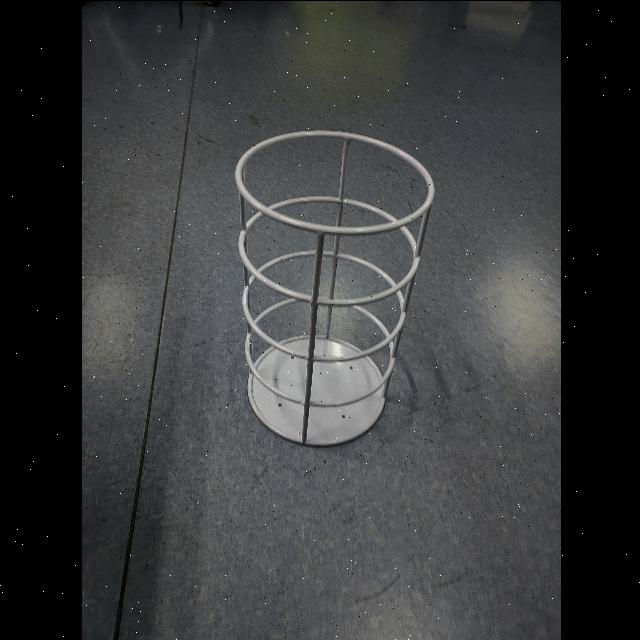S: (232, 124, 436, 448)
